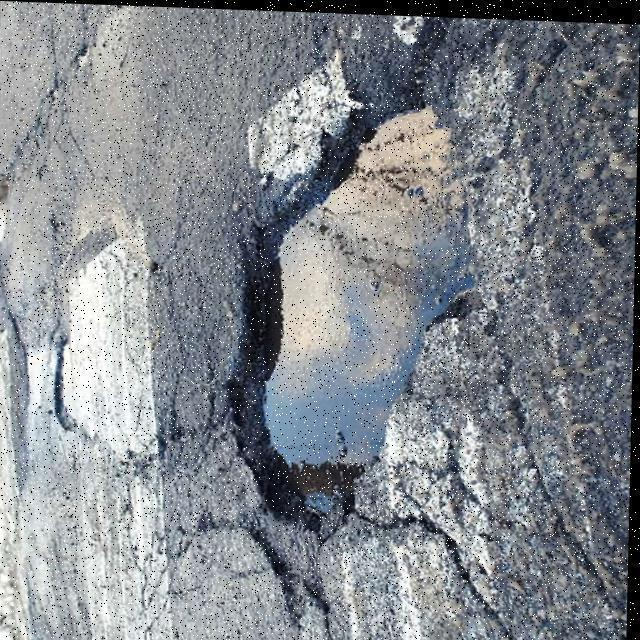Pothole: (220, 19, 487, 624)
